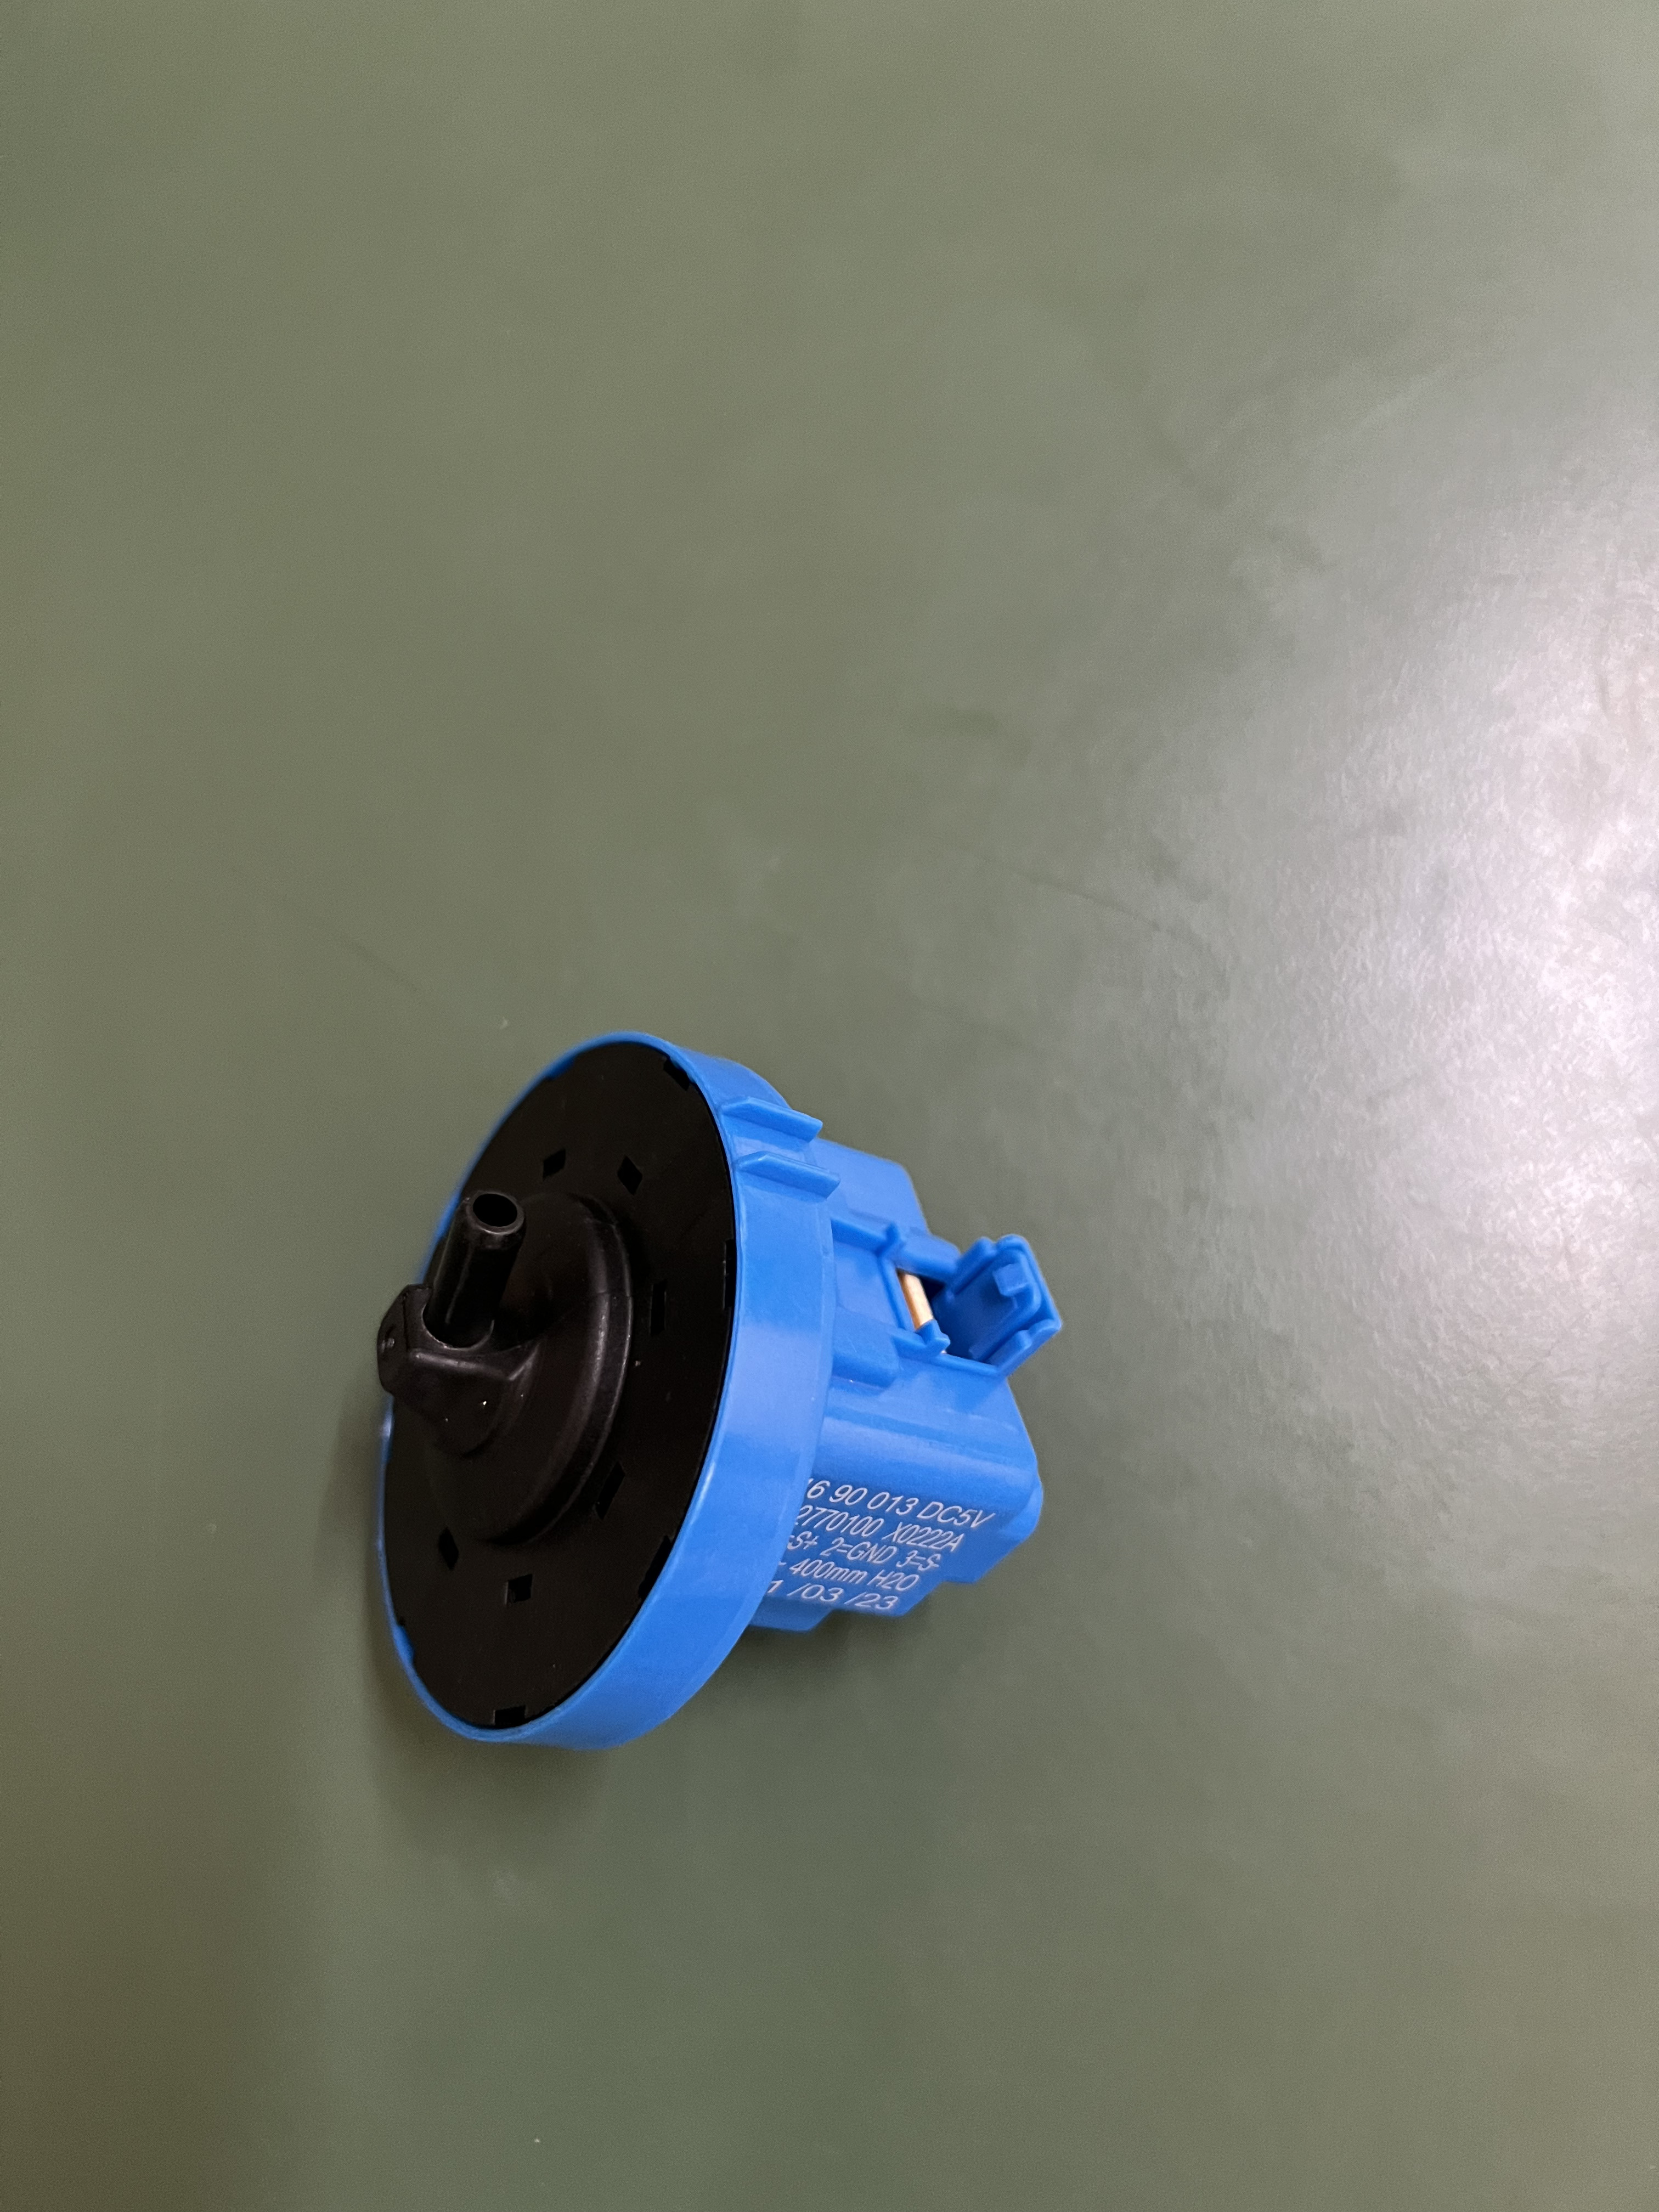voltas_beko_pressure_switch: (366, 1007, 1101, 1785)
